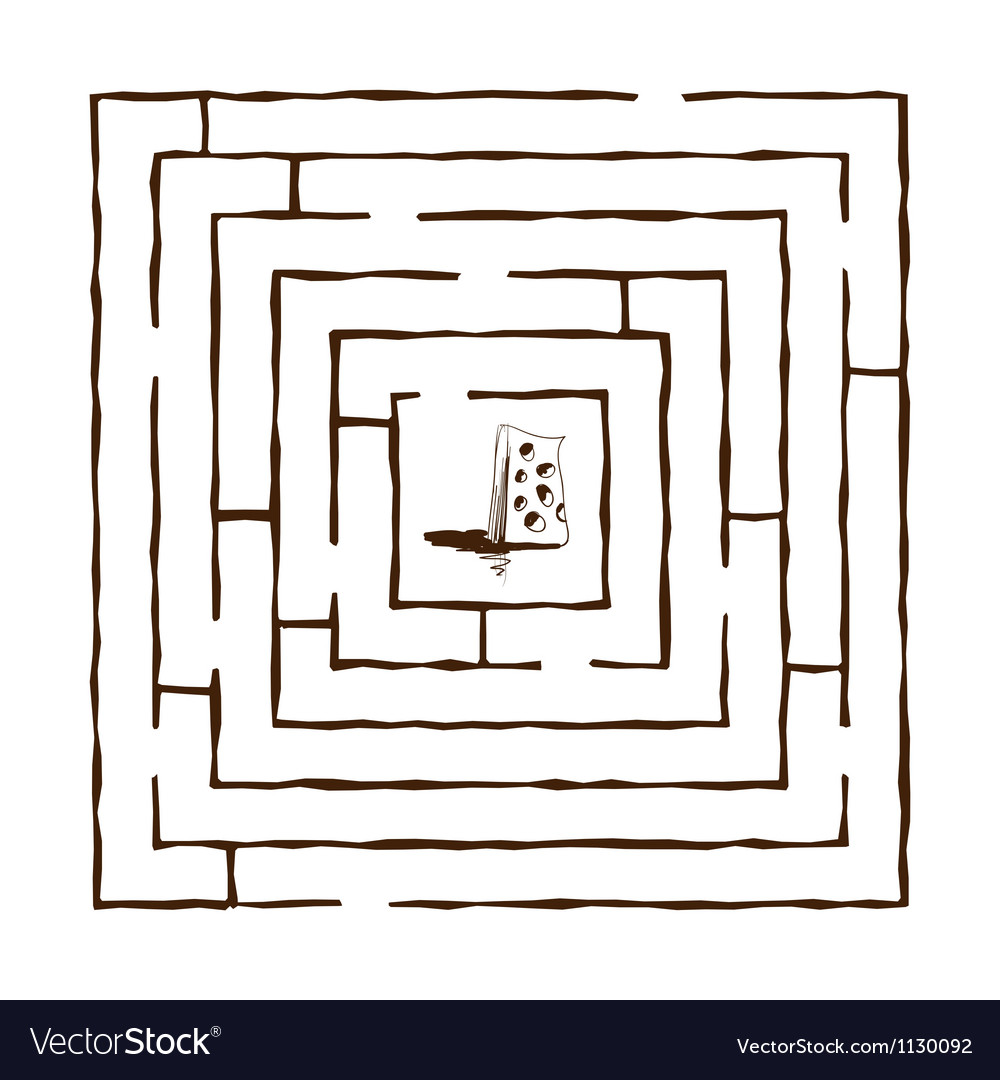maze: (89, 89, 909, 908)
